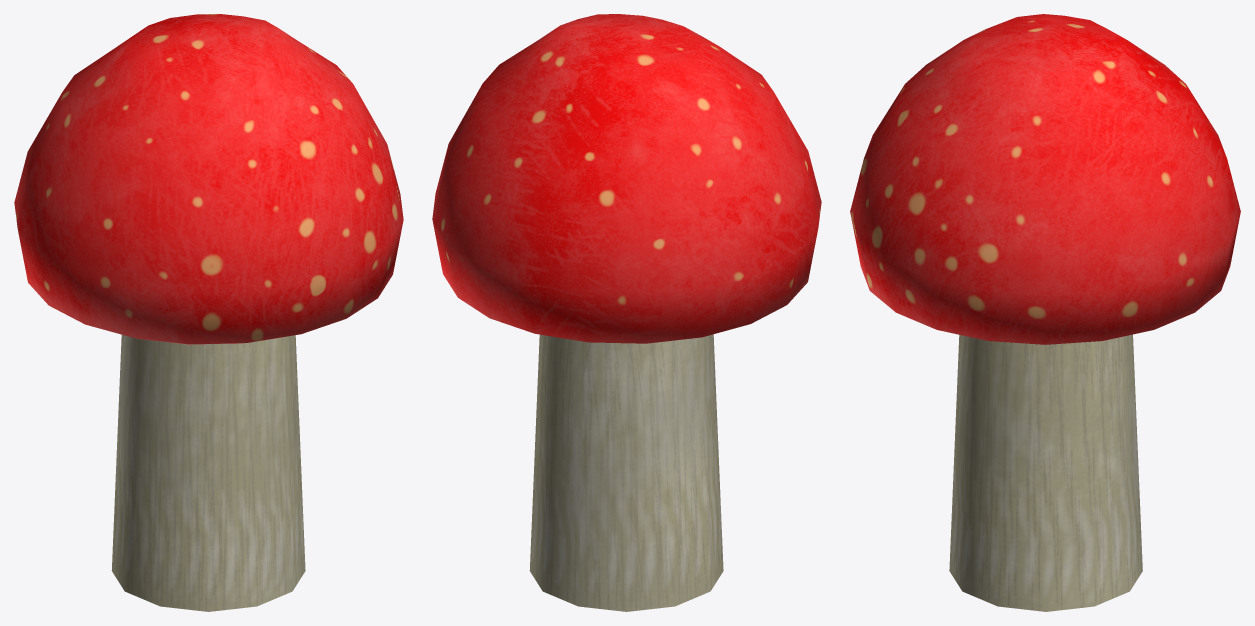
The model's file is Mushroom.FBX.
The picture shows the model from 3 angles, left to right: view 1: azimuth 30°, elevation 25°; view 2: azimuth 150°, elevation 25°; view 3: azimuth 270°, elevation 25°; orthographic projection.
Parts seen in each view (by area): view 1: Mushroom; view 2: Mushroom; view 3: Mushroom.
Part boxes in pixels (x1,y1,x2,y2): Mushroom: (14, 14, 403, 611); Mushroom: (432, 14, 821, 611); Mushroom: (850, 14, 1240, 611).
Bounding box in the file's own units: 34.9 × 53.12 × 34.9.
Materials: 1 (1 with a texture image).
